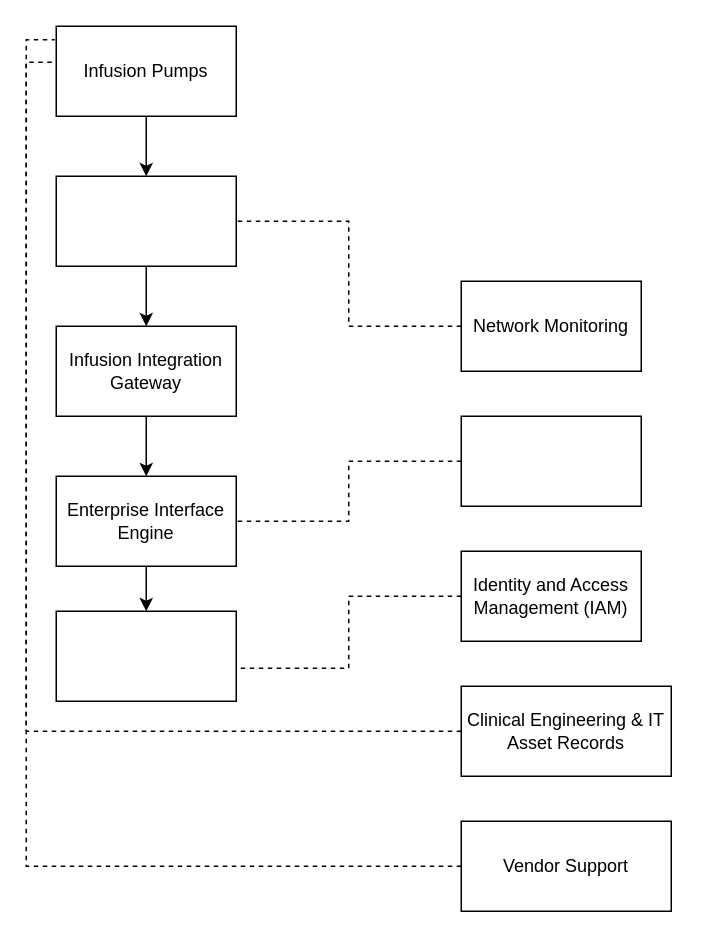
This 710x938 diagram has some shape labels left out. Each missing label, with the centre of its shape:
"EHR" belongs at (x=145, y=655).
"Interface Monitoring" belongs at (x=550, y=460).
"Network Infrastructure" belongs at (x=145, y=220).
